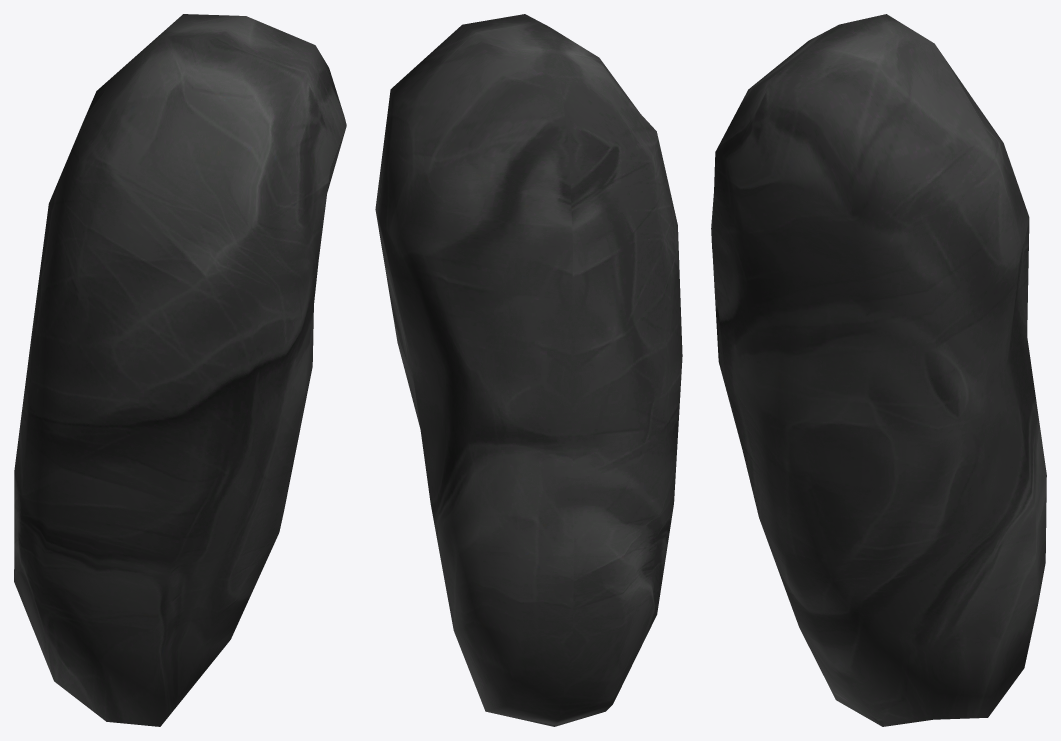
Rendered from RootIslandStoneShape.dae.
3 views of the same model, side by side, from view 1: azimuth 30°, elevation 25°; view 2: azimuth 150°, elevation 25°; view 3: azimuth 270°, elevation 25° (orthographic). The views are drawn at different scales.
Visible parts, largest first — view 1: RootIslandStone; view 2: RootIslandStone; view 3: RootIslandStone.
Part boxes in pixels (x1,y1,x2,y2): RootIslandStone: (14, 14, 346, 726); RootIslandStone: (375, 14, 682, 726); RootIslandStone: (711, 14, 1046, 726).
Bounding box in the file's own units: 4.77 × 10.61 × 4.5.
